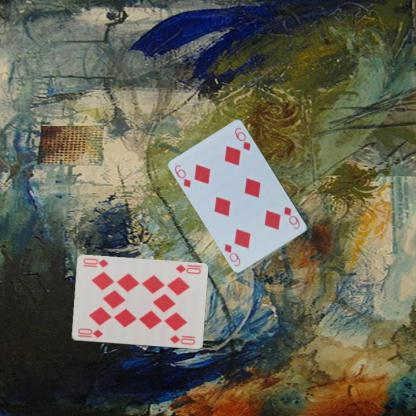10d: (172, 262, 202, 276), (75, 326, 104, 339)
6d: (172, 162, 192, 189), (282, 204, 302, 230)
